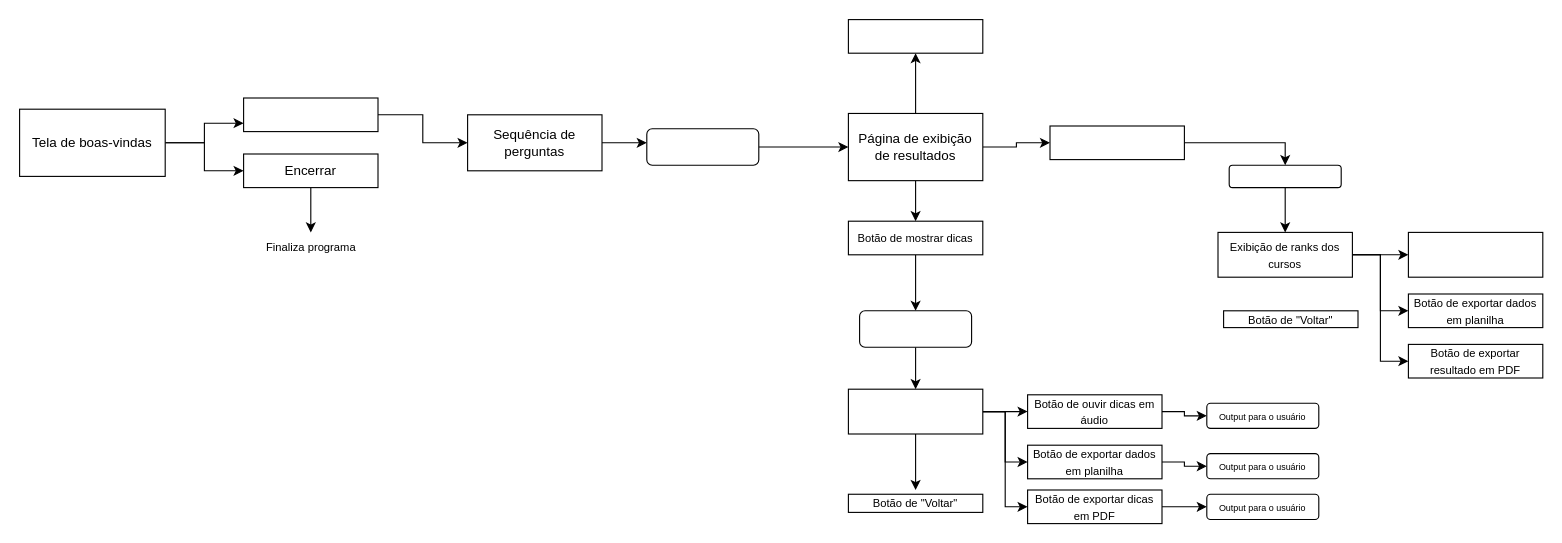
Some shapes in this 1562 by 543 pixel diagram are drawn without their labels. The box of each missing label's shape, as (x1, y1, x2, y2) in pixels:
Botão de encerrar: (847, 18, 983, 53)
Botão de explicação do rank: (1407, 231, 1543, 277)
Botão de mostrar ranks: (1049, 125, 1184, 160)
Exibição de resposta da IA em texto: (847, 388, 983, 434)
Iniciar: (242, 97, 378, 132)
Loading de ranks: (1228, 164, 1341, 188)
Loading de resposta da IA: (858, 310, 972, 347)
Loading de resultados em csv's: (646, 128, 759, 165)
